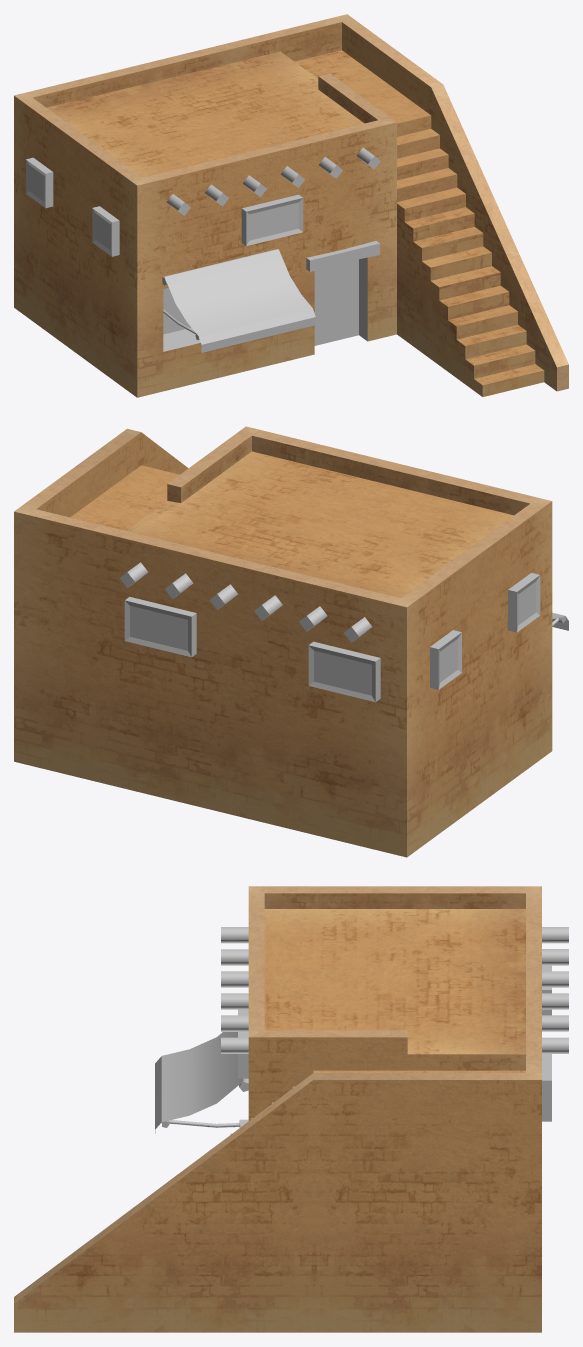
Rendered from House_06.fbx.
3 views of the same model, one above another, from view 1: azimuth 30°, elevation 25°; view 2: azimuth 150°, elevation 25°; view 3: azimuth 270°, elevation 25° (orthographic). The views are drawn at different scales.
Parts seen in each view (by area): view 1: House_06; view 2: House_06; view 3: House_06.
Part boxes in pixels (box(x1,y1,x2,y2)): House_06: box(14, 14, 568, 397); House_06: box(14, 426, 568, 857); House_06: box(14, 886, 568, 1332).
Bounding box in the file's own units: 148 × 88.23 × 176.
